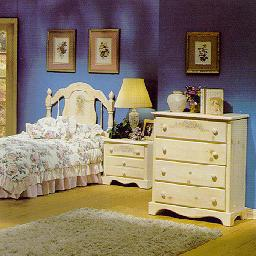Armario: (152, 114, 243, 229)
Cama: (6, 120, 100, 202)
